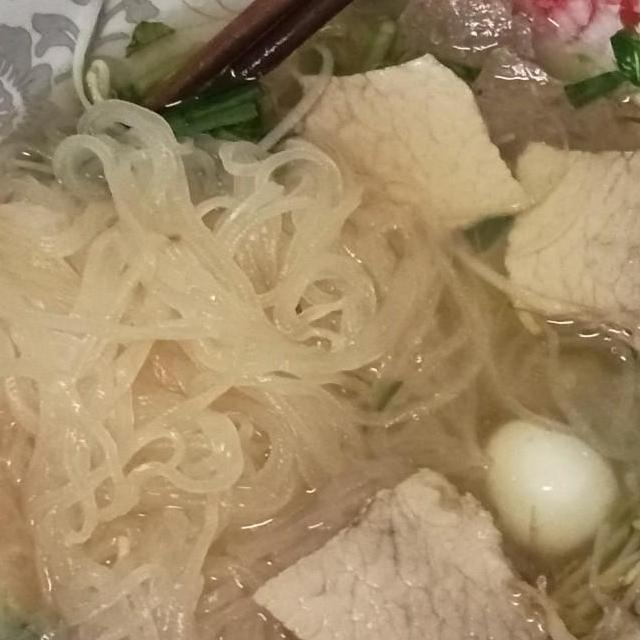banh hu tieu: (0, 92, 288, 640), (186, 128, 502, 510)
hu tieu: (0, 0, 640, 640)
thit heo: (244, 461, 601, 640), (256, 45, 538, 244), (494, 133, 640, 361)
trung: (478, 411, 624, 558)
